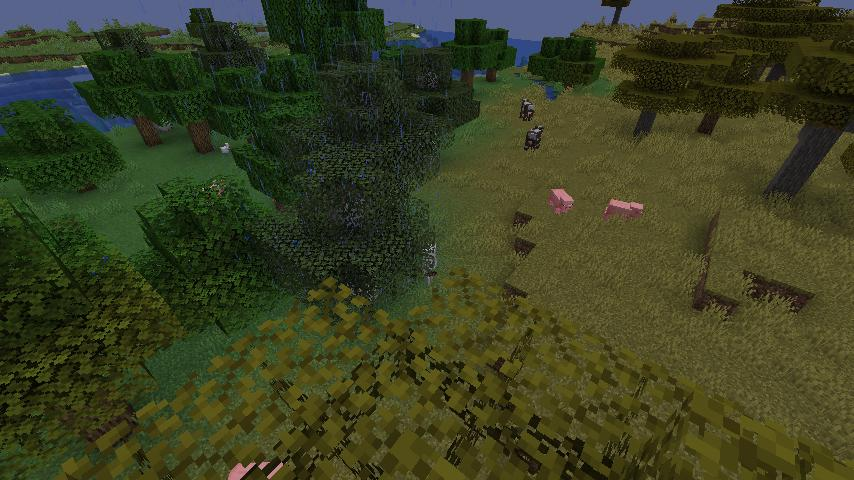chicken: (219, 141, 231, 156)
cow: (523, 124, 544, 152), (519, 97, 535, 122)
pig: (602, 196, 645, 227), (548, 186, 574, 215)
skeleton: (421, 239, 438, 287)
